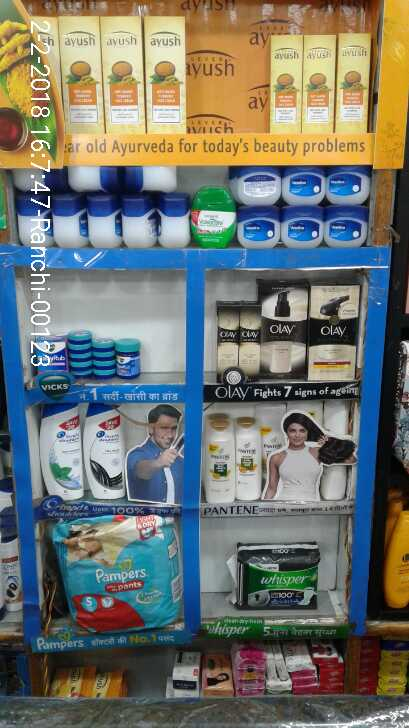vicks: (35, 327, 143, 385)
